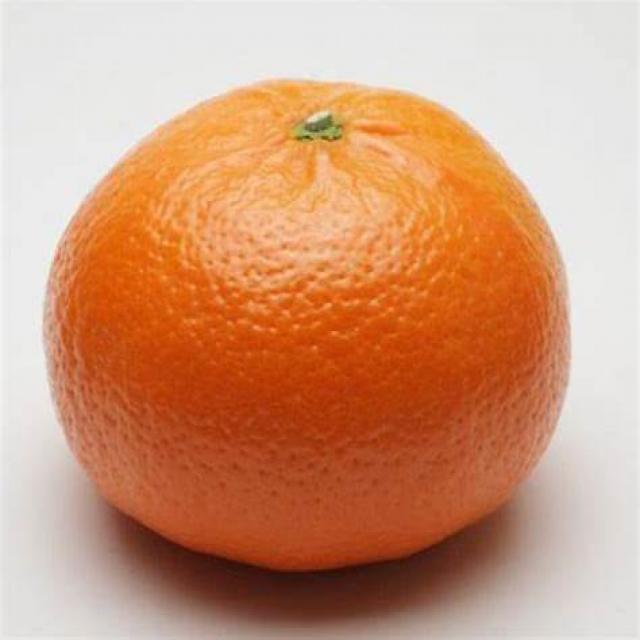Orange: (47, 79, 574, 573)
